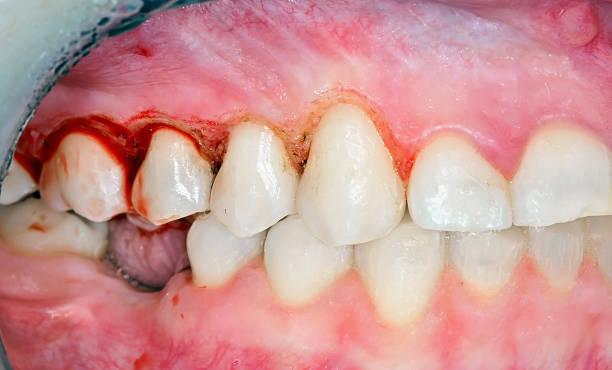Gingivitis: (33, 100, 217, 175)
Hypodontia: (301, 83, 422, 172), (88, 222, 206, 300)
